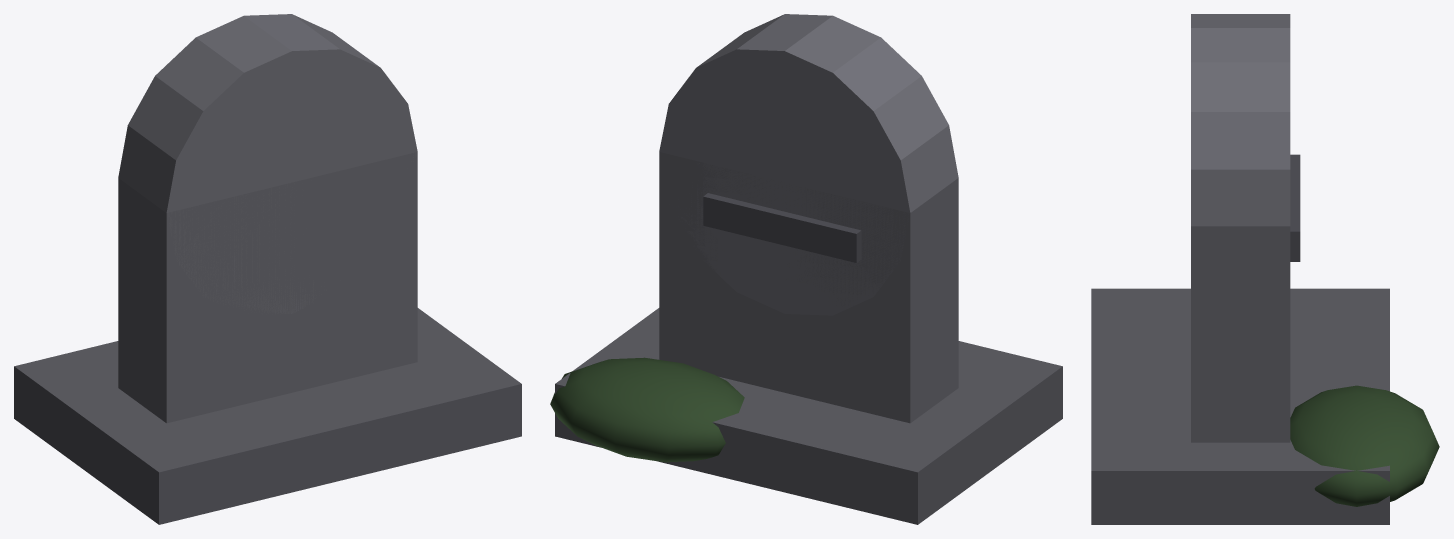
The model's file is deco_tomb_lite.glb.
The picture shows the model from 3 angles, left to right: view 1: azimuth 30°, elevation 25°; view 2: azimuth 150°, elevation 25°; view 3: azimuth 270°, elevation 25°; orthographic projection. The views are drawn at different scales.
Parts seen in each view (by area): view 1: Cube; view 2: Cube; view 3: Cube.
Part boxes in pixels (bbox=[...]): Cube: bbox=[14, 14, 521, 524]; Cube: bbox=[550, 14, 1062, 524]; Cube: bbox=[1091, 14, 1439, 524].
Bounding box in the file's own units: 1.35 × 1.35 × 1.05.
